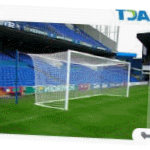goals: (27, 48, 133, 111)
